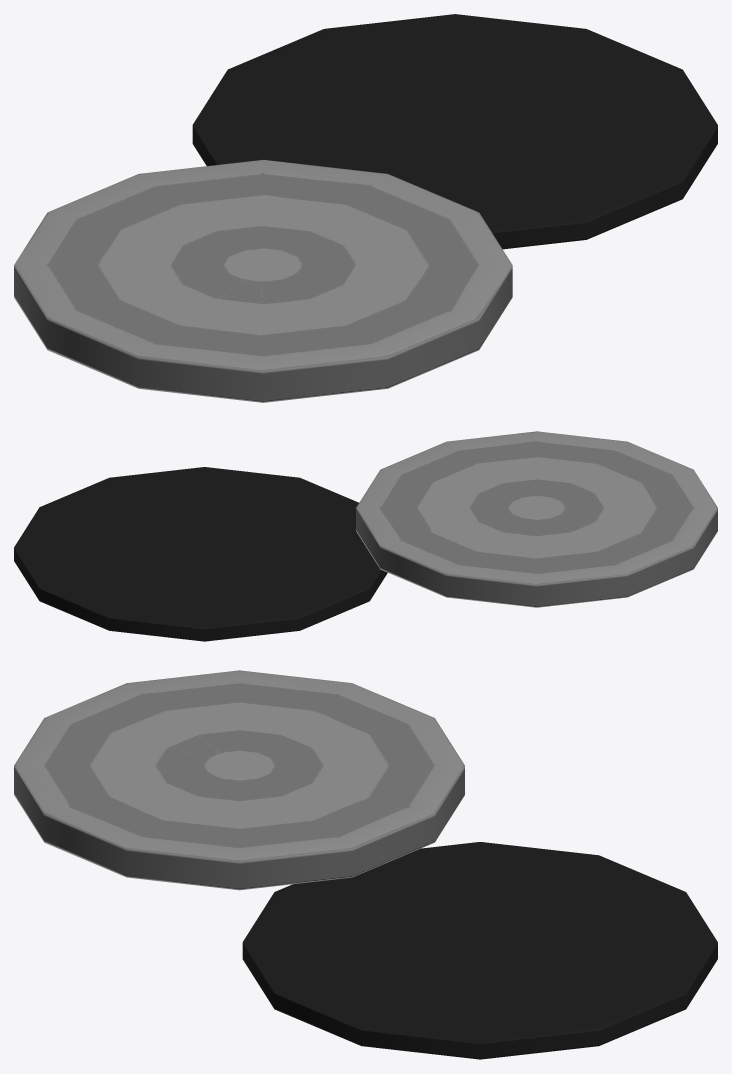
The model's file is manhole.fbx.
The picture shows the model from 3 angles, top to bottom: view 1: azimuth 30°, elevation 25°; view 2: azimuth 150°, elevation 25°; view 3: azimuth 270°, elevation 25°; orthographic projection. The views are drawn at different scales.
Visible parts, largest first — view 1: Cylinder.001, Cylinder; view 2: Cylinder.001, Cylinder; view 3: Cylinder, Cylinder.001.
Part boxes in pixels (<box>): Cylinder.001: <box>14,159,512,402</box>; Cylinder: <box>192,14,717,249</box>; Cylinder.001: <box>356,431,717,607</box>; Cylinder: <box>14,467,387,641</box>; Cylinder: <box>242,842,717,1059</box>; Cylinder.001: <box>14,670,464,890</box>.
Size of the model in its own units: 466 by 32.02 by 409.
